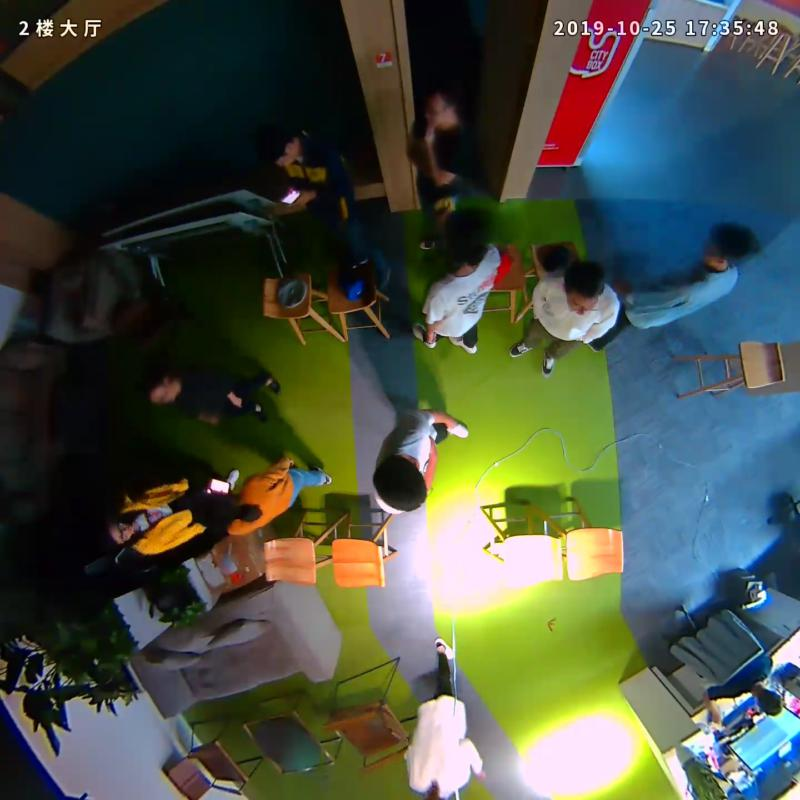head: (434, 206, 498, 278), (371, 454, 433, 514), (698, 219, 763, 276), (556, 257, 612, 319), (190, 492, 247, 539), (133, 360, 183, 412), (255, 121, 306, 171), (414, 80, 463, 130), (86, 513, 133, 559)
